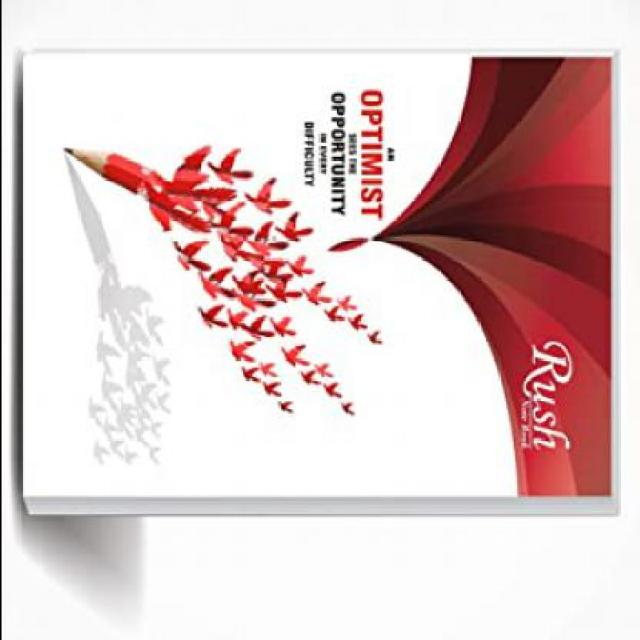book: (12, 33, 624, 543)
